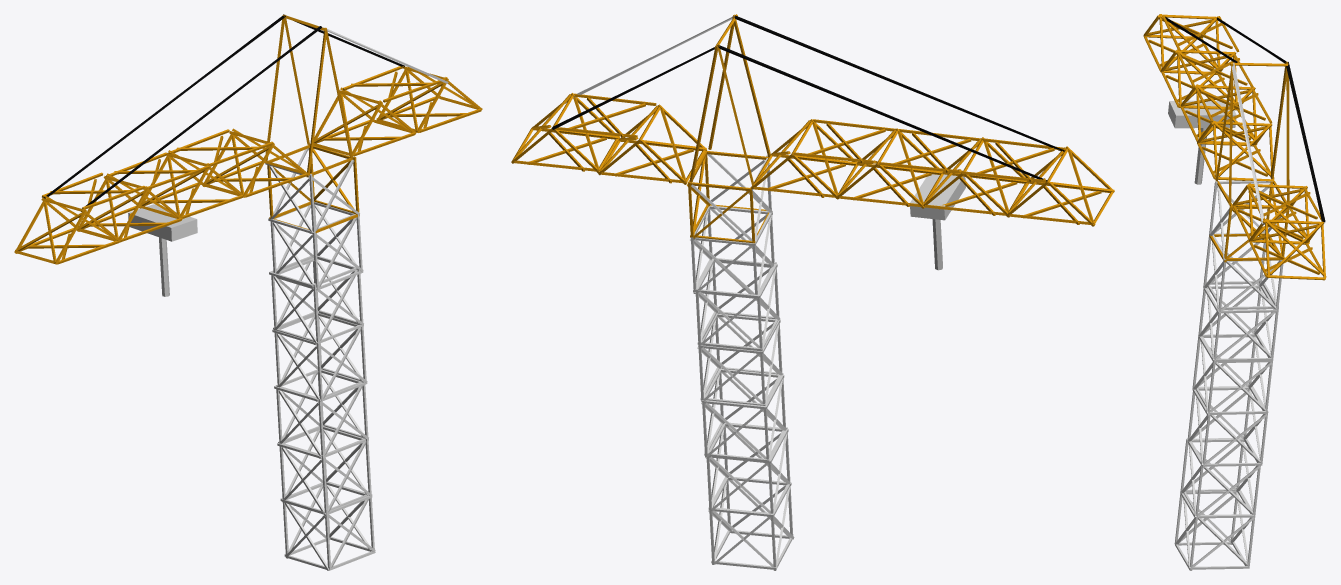
The model's file is crane.fbx.
3 views of the same model, side by side, from view 1: azimuth 30°, elevation 25°; view 2: azimuth 150°, elevation 25°; view 3: azimuth 270°, elevation 25° (orthographic). The views are drawn at different scales.
Parts seen in each view (by area): view 1: cm5teXZ5Ctr_1_0_0, cm5teXZ5Ctr_0_0_0, cm5teXZ5Ctr_2_0_0; view 2: cm5teXZ5Ctr_1_0_0, cm5teXZ5Ctr_0_0_0, cm5teXZ5Ctr_2_0_0; view 3: cm5teXZ5Ctr_1_0_0, cm5teXZ5Ctr_0_0_0, cm5teXZ5Ctr_2_0_0.
Part boxes in pixels (box(x1,y1,x2,y2)): cm5teXZ5Ctr_1_0_0: box(14, 14, 482, 264); cm5teXZ5Ctr_0_0_0: box(265, 148, 375, 570); cm5teXZ5Ctr_2_0_0: box(128, 27, 448, 296); cm5teXZ5Ctr_1_0_0: box(511, 14, 1114, 243); cm5teXZ5Ctr_0_0_0: box(690, 154, 794, 570); cm5teXZ5Ctr_2_0_0: box(573, 15, 965, 270); cm5teXZ5Ctr_1_0_0: box(1143, 14, 1326, 280); cm5teXZ5Ctr_0_0_0: box(1174, 180, 1283, 570); cm5teXZ5Ctr_2_0_0: box(1168, 62, 1264, 224).
Bounding box in the file's own units: 0.7401 × 0.7346 × 0.2434.
